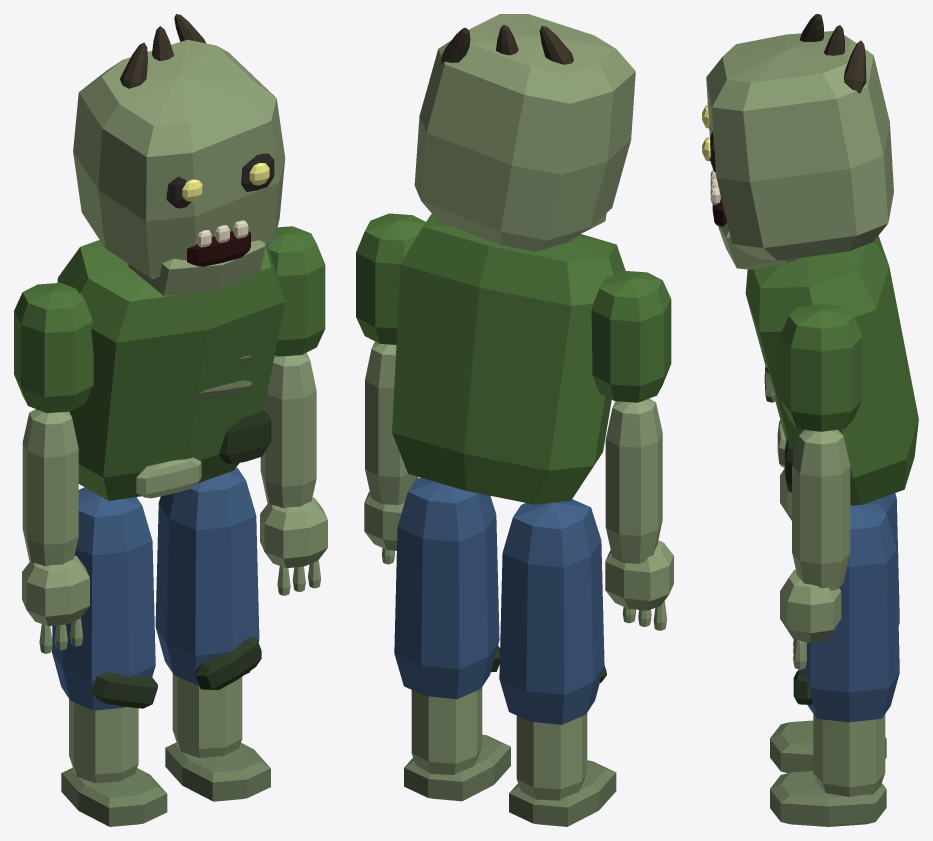
File: mon-walker-2.glb
3 renders of one model, left to right at view 1: azimuth 30°, elevation 25°; view 2: azimuth 150°, elevation 25°; view 3: azimuth 270°, elevation 25°, orthographic.
Parts seen in each view (by area): view 1: head, torso, leg-left, leg-right, arm-right, arm-left; view 2: torso, head, leg-right, leg-left, arm-right, arm-left; view 3: head, leg-left, arm-left, torso, leg-right.
Boxes of the visible parts, left/top/right/bottom form: head: left=73, top=14, right=285, bottom=295; torso: left=57, top=240, right=285, bottom=500; leg-left: left=155, top=467, right=270, bottom=801; leg-right: left=52, top=487, right=167, bottom=826; arm-right: left=14, top=283, right=93, bottom=653; arm-left: left=260, top=226, right=327, bottom=595; torso: left=392, top=214, right=625, bottom=504; head: left=414, top=14, right=635, bottom=251; leg-right: left=499, top=499, right=616, bottom=826; leg-left: left=394, top=477, right=510, bottom=801; arm-right: left=591, top=270, right=673, bottom=630; arm-left: left=356, top=213, right=425, bottom=564; head: left=702, top=14, right=893, bottom=269; leg-left: left=770, top=502, right=899, bottom=826; arm-left: left=780, top=304, right=862, bottom=669; torso: left=745, top=236, right=918, bottom=505; leg-right: left=770, top=493, right=899, bottom=772.
Bounding box in the file's own units: 0.9745 × 2.4 × 0.617.
